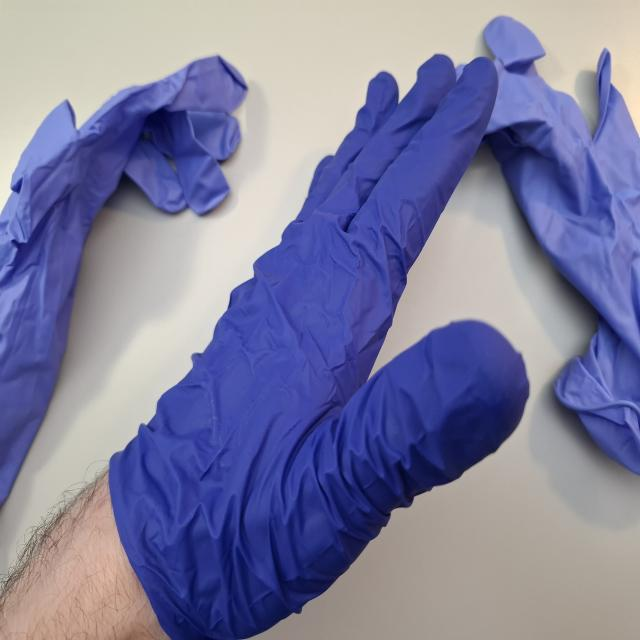glove_on: (99, 49, 533, 640)
